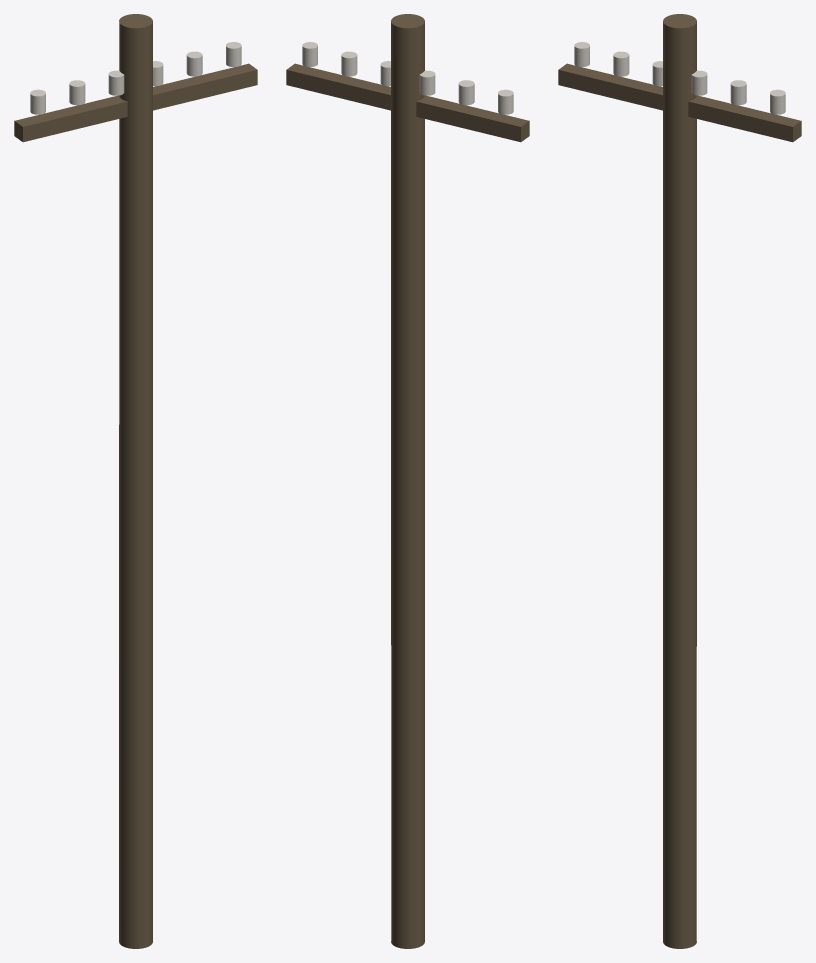
File: f41-telegraph-pole.glb
The picture shows the model from 3 angles, left to right: view 1: azimuth 30°, elevation 25°; view 2: azimuth 150°, elevation 25°; view 3: azimuth 330°, elevation 25°; orthographic projection.
Parts seen in each view (by area): view 1: part0, part1; view 2: part0, part1; view 3: part0, part1.
Boxes of the visible parts, left/top/right/bottom form: part0: left=119, top=14, right=152, bottom=948; part1: left=14, top=63, right=257, bottom=142; part0: left=391, top=14, right=424, bottom=948; part1: left=286, top=63, right=529, bottom=142; part0: left=663, top=14, right=696, bottom=948; part1: left=558, top=63, right=801, bottom=142.
Size of the model in its own units: 2400 by 9000 by 300.
